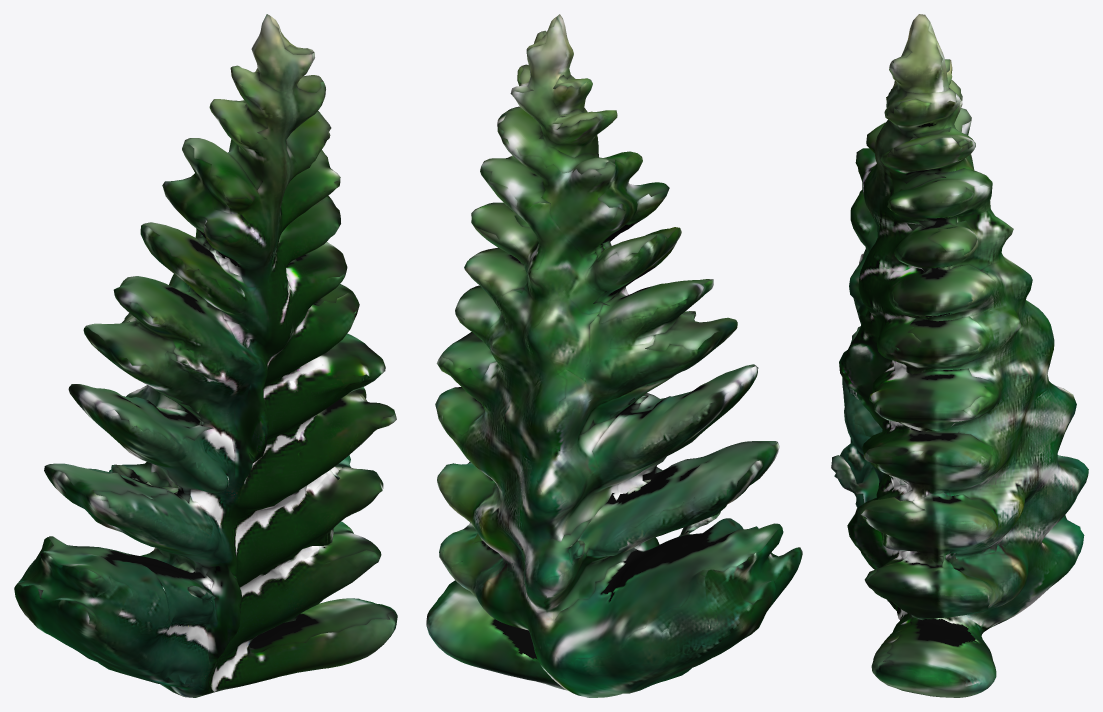
Rendered from 018bc02e-e5e3-754b-8bc7-abf9225141f7.glb.
The picture shows the model from 3 angles, left to right: view 1: azimuth 30°, elevation 25°; view 2: azimuth 150°, elevation 25°; view 3: azimuth 270°, elevation 25°; orthographic projection. The views are drawn at different scales.
Parts seen in each view (by area): view 1: model.obj; view 2: model.obj; view 3: model.obj.
Boxes of the visible parts, x1,y1,x2,y2 form: model.obj: (14,14,397,697); model.obj: (426,14,802,697); model.obj: (831,14,1088,697).
Bounding box in the file's own units: 0.6003 × 1.09 × 0.3932.
1 material, 1 textured.
